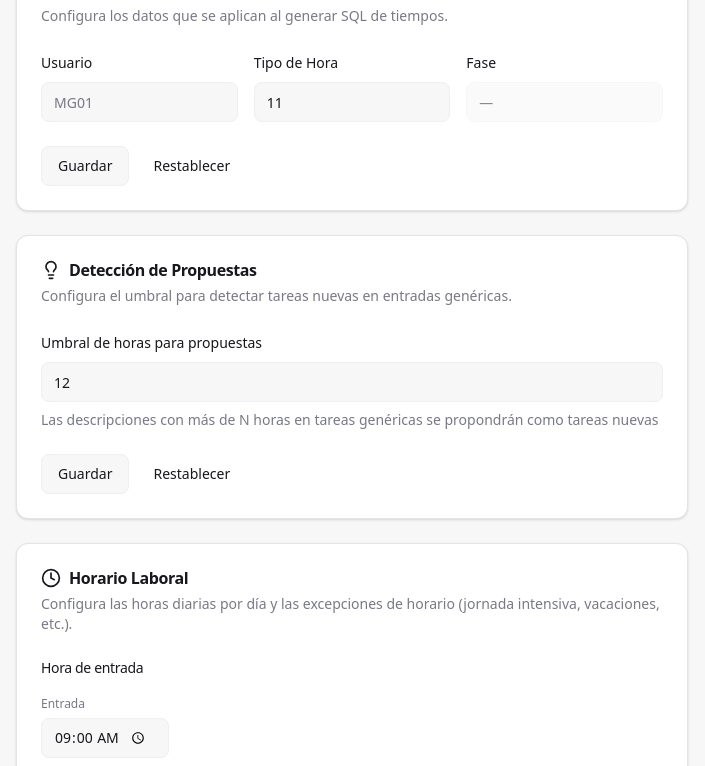
Test: SettingsPage - Proposal Config Section › Restablecer reverts to last saved › should revert to saved value when reset is clicked
(page scrolled)
Replace the text in the number field labelled "Umbral de horas para propuestas" with "50" at [352, 382], box [41,362,663,402]
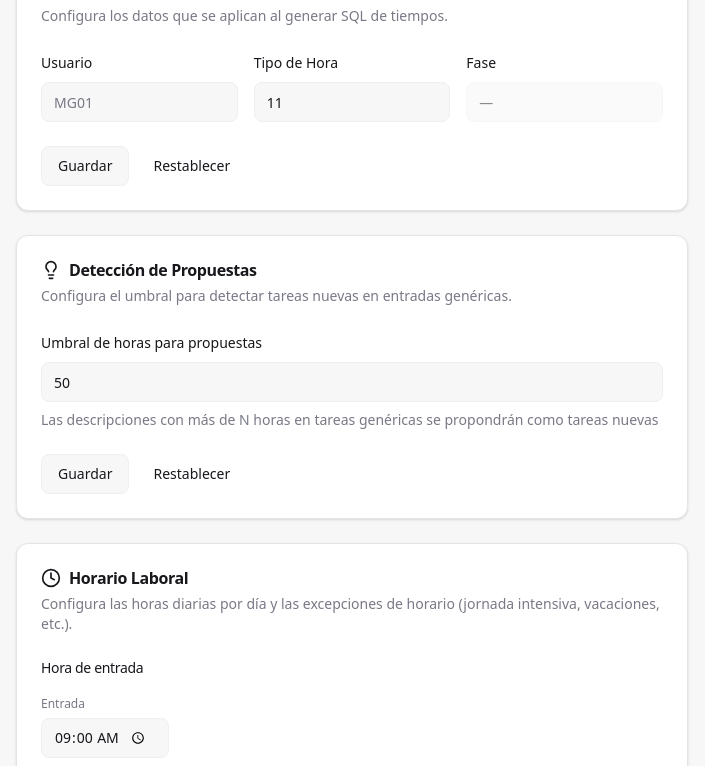
Click the button "Restablecer" below "Umbral de horas para propuestas".
click(192, 474)  # box [138,454,246,494]
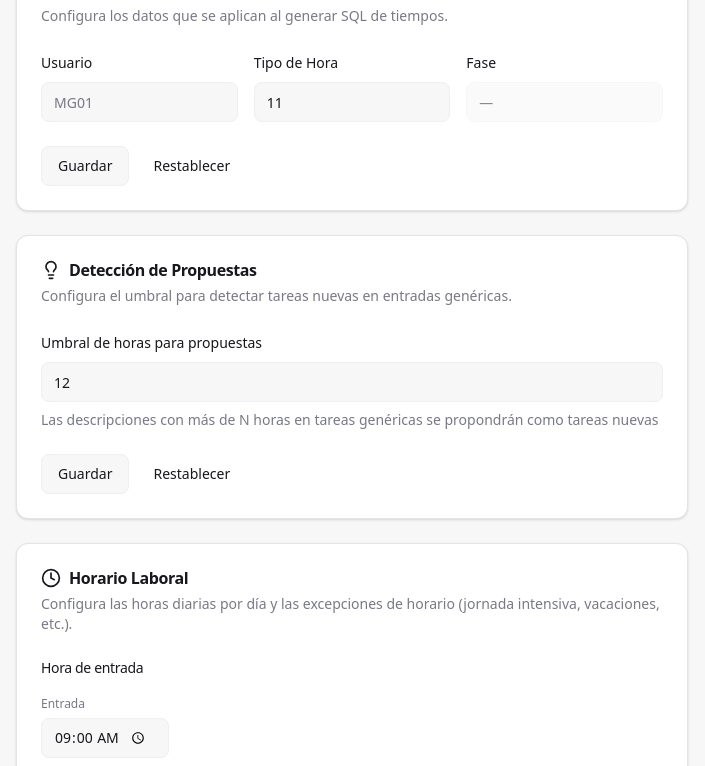
expect the number field labelled "Umbral de horas para propuestas" holds "12": met, box [41,362,663,402]
